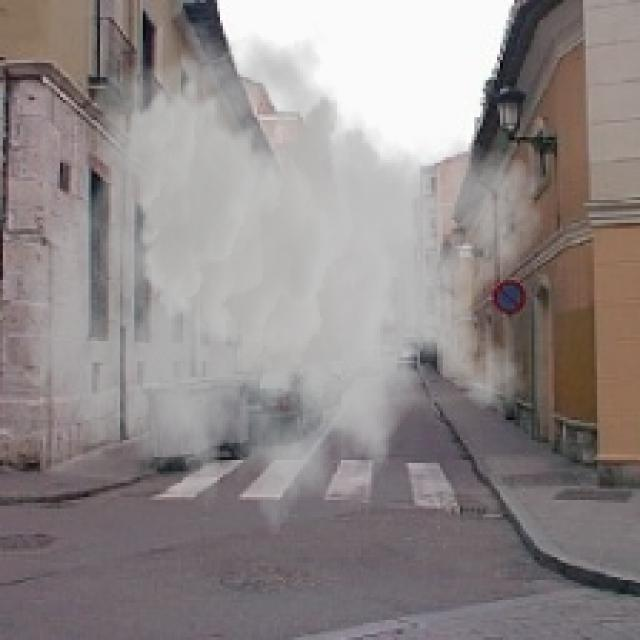smoke: (20, 17, 546, 560)
